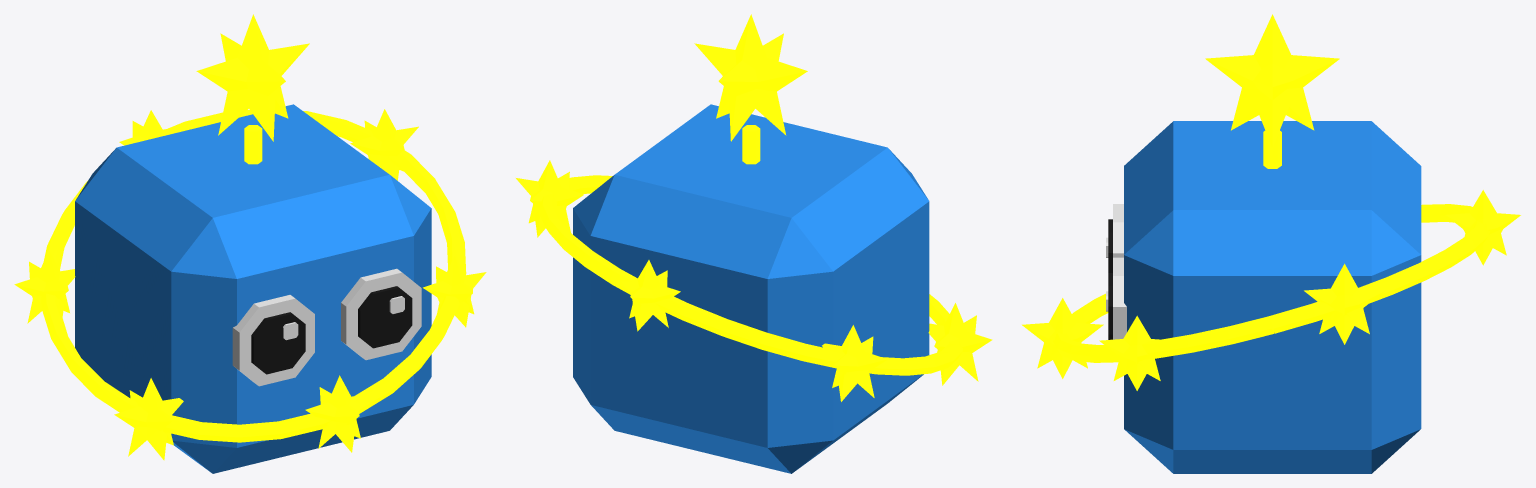
File: Starry.fbx
3 renders of one model, left to right at view 1: azimuth 30°, elevation 25°; view 2: azimuth 150°, elevation 25°; view 3: azimuth 270°, elevation 25°, orthographic. The views are drawn at different scales.
Parts seen in each view (by area): view 1: Starry, Starry_Stars, Starry_Ring, Starry_Eyes, Starry_Pupils; view 2: Starry, Starry_Stars, Starry_Ring; view 3: Starry, Starry_Stars, Starry_Ring, Starry_Eyes, Starry_Pupils.
Boxes of the visible parts, x1,y1,x2,y2 form: Starry: [75, 104, 431, 473]; Starry_Stars: [14, 14, 486, 460]; Starry_Ring: [41, 110, 466, 442]; Starry_Eyes: [232, 268, 421, 386]; Starry_Pupils: [251, 286, 412, 374]; Starry: [573, 104, 929, 473]; Starry_Stars: [516, 14, 992, 401]; Starry_Ring: [538, 125, 962, 375]; Starry: [1124, 121, 1421, 473]; Starry_Stars: [1022, 14, 1520, 390]; Starry_Ring: [1053, 130, 1490, 362]; Starry_Eyes: [1106, 204, 1126, 339]; Starry_Pupils: [1108, 219, 1112, 339].
Size of the model in its own units: 3.01 by 2.96 by 3.23.
